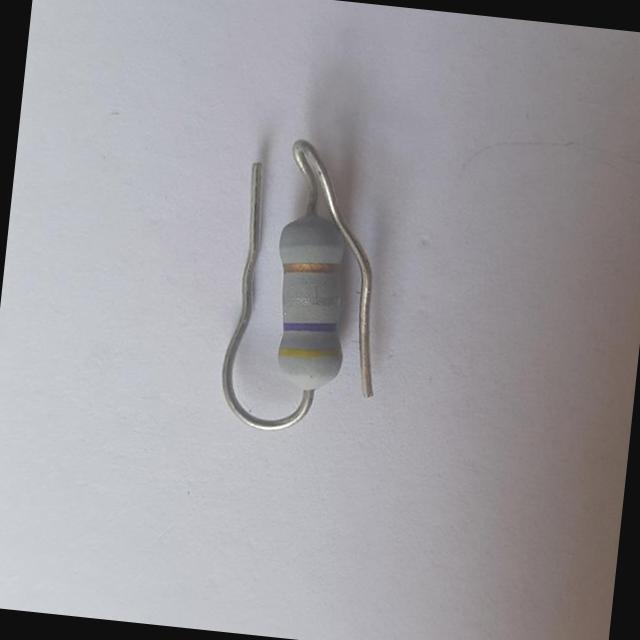Resistor: (279, 213, 345, 389)
gold: (278, 261, 340, 273)
purple: (280, 319, 337, 332)
silver: (280, 293, 340, 304)
yellow: (275, 345, 344, 357)
